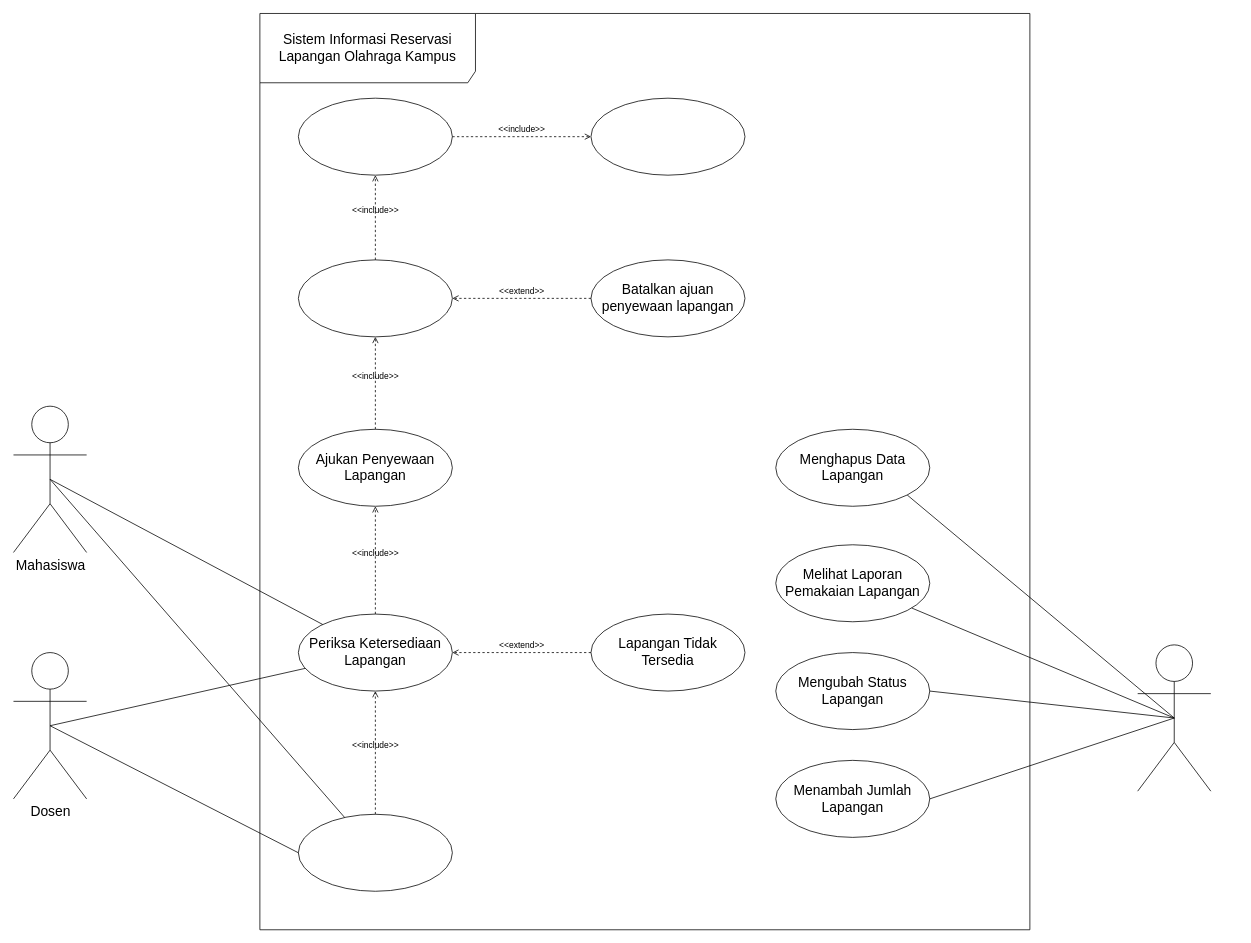
Some shapes in this 1251 by 943 pixel diagram are drawn without their labels. The centre of each missing label's shape, as x and y in pixels:
Lihat Jadwal Lapangan: (375,852)
Lihat Riwayat Pemesanan: (667,136)
Menunggu Pembayaran: (375,298)
Pembayaran Lunas: (375,136)
Pengelola Lapangan: (1174,717)
